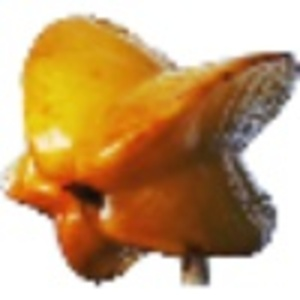carambola: (1, 12, 300, 288)
